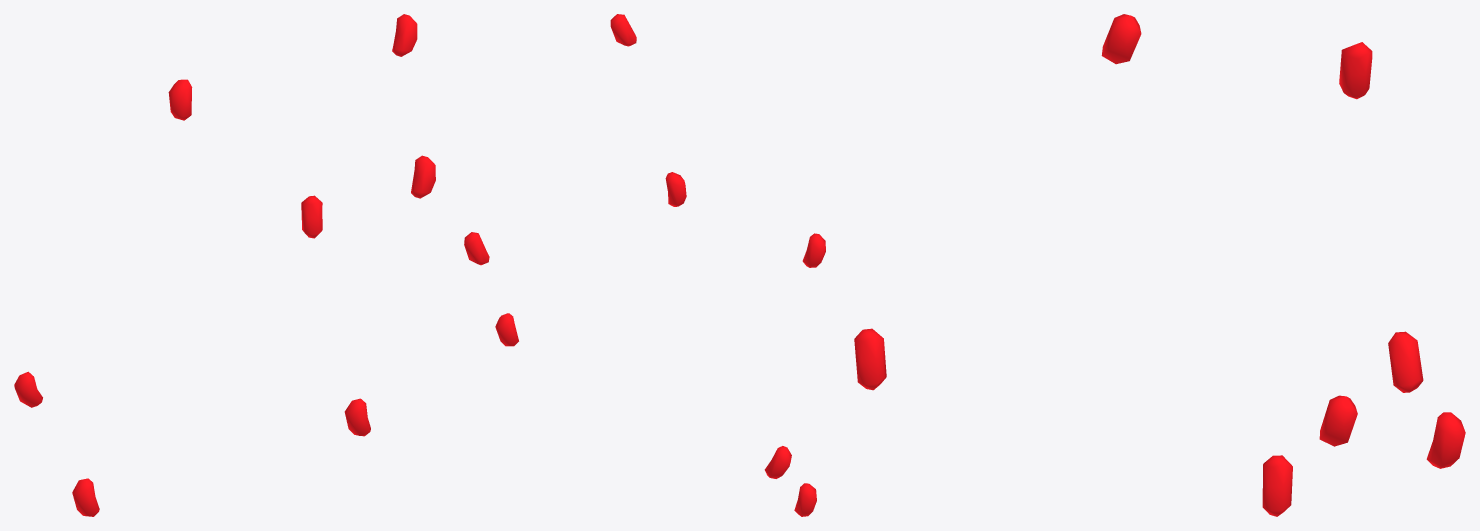
File: redjujubes.glb
The picture shows the model from 3 angles, left to right: view 1: azimuth 30°, elevation 25°; view 2: azimuth 150°, elevation 25°; view 3: azimuth 270°, elevation 25°; orthographic projection. The views are drawn at different scales.
Visible parts, largest first — view 1: Sphere.006, Sphere.009, Sphere.007, Sphere.003, Sphere.005, Sphere.008, Sphere.004; view 2: Sphere.009, Sphere.006, Sphere.008, Sphere.007, Sphere.004, Sphere.003, Sphere.005; view 3: Sphere.004, Sphere.008, Sphere.005, Sphere.007, Sphere.003, Sphere.006, Sphere.009.
Part boxes in pixels (bbox=[...]): Sphere.006: bbox=[411, 155, 435, 198]; Sphere.009: bbox=[392, 14, 417, 56]; Sphere.007: bbox=[168, 79, 192, 120]; Sphere.003: bbox=[301, 195, 322, 238]; Sphere.005: bbox=[72, 478, 99, 516]; Sphere.008: bbox=[344, 398, 370, 436]; Sphere.004: bbox=[14, 371, 42, 407]; Sphere.009: bbox=[610, 14, 636, 46]; Sphere.006: bbox=[464, 232, 489, 265]; Sphere.008: bbox=[802, 233, 825, 267]; Sphere.007: bbox=[665, 172, 686, 206]; Sphere.004: bbox=[764, 446, 791, 478]; Sphere.003: bbox=[495, 313, 518, 346]; Sphere.005: bbox=[794, 483, 816, 516]; Sphere.004: bbox=[1388, 331, 1423, 392]; Sphere.008: bbox=[854, 328, 886, 390]; Sphere.005: bbox=[1262, 455, 1292, 516]; Sphere.007: bbox=[1339, 42, 1372, 99]; Sphere.003: bbox=[1426, 412, 1465, 468]; Sphere.006: bbox=[1319, 395, 1357, 446]; Sphere.009: bbox=[1101, 14, 1141, 64].
Bounding box in the file's own units: 26.36 × 30.05 × 24.37.
